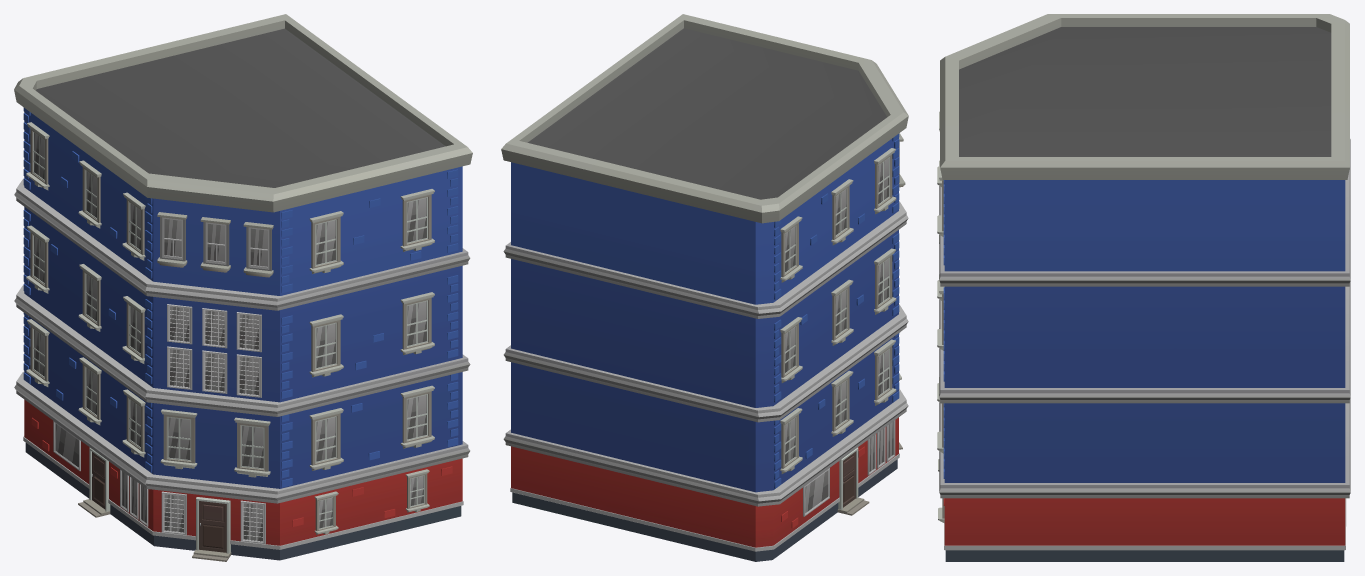
The model's file is Building_25_2_B.fbx.
3 views of the same model, side by side, from view 1: azimuth 30°, elevation 25°; view 2: azimuth 150°, elevation 25°; view 3: azimuth 270°, elevation 25° (orthographic). The views are drawn at different scales.
Visible parts, largest first — view 1: Building_25_2_B; view 2: Building_25_2_B; view 3: Building_25_2_B.
Boxes of the visible parts, x1,y1,x2,y2 form: Building_25_2_B: (14,14,472,561); Building_25_2_B: (501,14,908,561); Building_25_2_B: (937,14,1350,561).
Size of the model in its own units: 1291 by 1596 by 1479.
